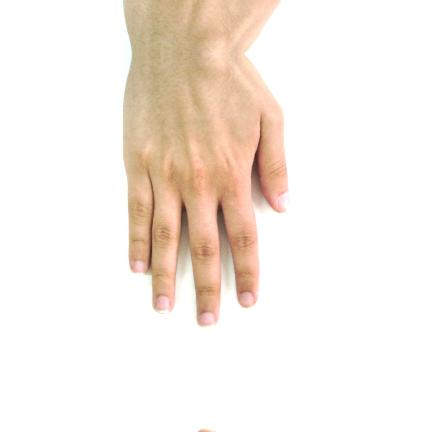Nail: (278, 191, 291, 213), (238, 292, 255, 308), (197, 312, 215, 327), (155, 296, 170, 313), (132, 261, 146, 273), (198, 429, 215, 432)
